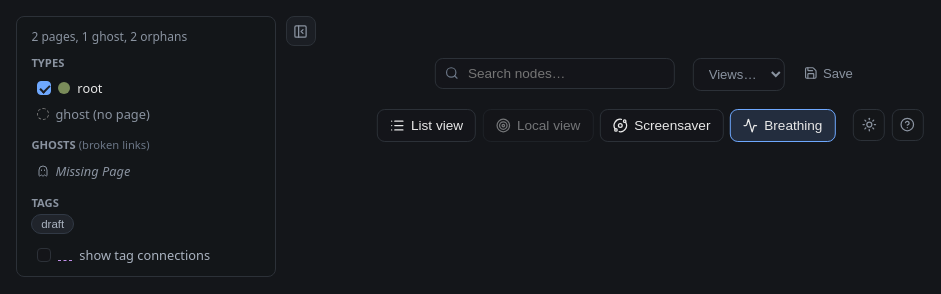
Scenario: App — tag search + ghosts panel (M6) › matches a node by tag even when the query doesn't appear in its label
Type "draft" into the field labelled "Search nodes" at (555, 73), box x1=435 y1=58 x2=675 y2=89
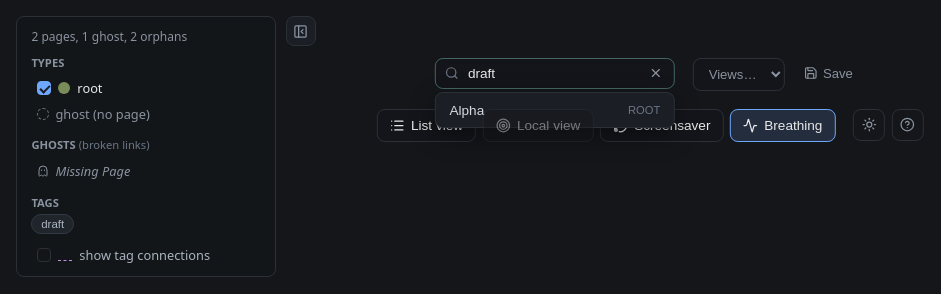
Now the button "Alpha root" is shown, box x1=440 y1=97 x2=670 y2=123
